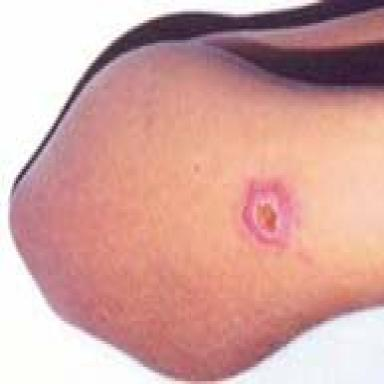Leishmanios: (241, 179, 299, 250)
